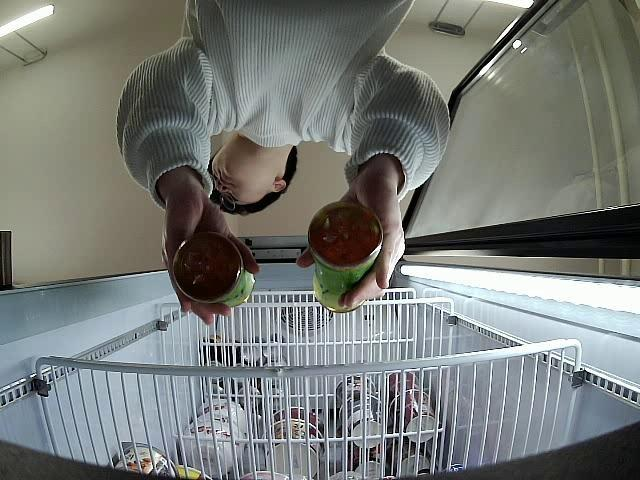19_17cha: (308, 203, 384, 315), (173, 231, 257, 308)
